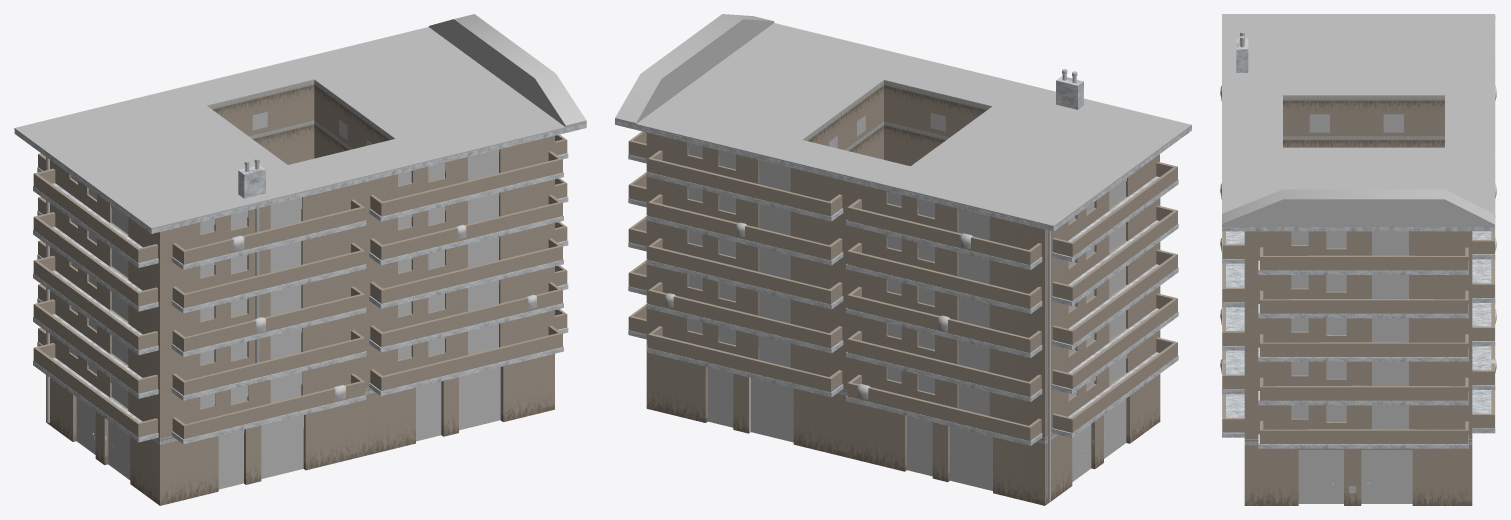
Rendered from building5_lod0.FBX.
3 renders of one model, left to right at view 1: azimuth 30°, elevation 25°; view 2: azimuth 150°, elevation 25°; view 3: azimuth 270°, elevation 25°, orthographic.
Parts seen in each view (by area): view 1: building5_lod0, building5_roof_lod0, building5_details, building5_transparent_lod0; view 2: building5_lod0, building5_roof_lod0, building5_transparent_lod0; view 3: building5_lod0, building5_roof_lod0.
Boxes of the visible parts, x1,y1,x2,y2 form: building5_lod0: [14, 80, 586, 505]; building5_roof_lod0: [14, 14, 586, 229]; building5_details: [92, 415, 303, 449]; building5_transparent_lod0: [232, 224, 536, 400]; building5_lod0: [615, 69, 1191, 505]; building5_roof_lod0: [615, 14, 1191, 227]; building5_transparent_lod0: [665, 222, 972, 399]; building5_lod0: [1222, 15, 1495, 505]; building5_roof_lod0: [1222, 14, 1494, 226].
Size of the model in its own units: 3437 by 2449 by 1898.
